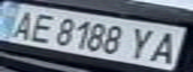1: (69, 18, 90, 51)
8: (48, 15, 78, 47), (103, 21, 130, 56), (87, 20, 109, 53)
A: (145, 28, 190, 65), (0, 7, 42, 40)
E: (21, 10, 60, 44)
Y: (124, 25, 163, 61)
